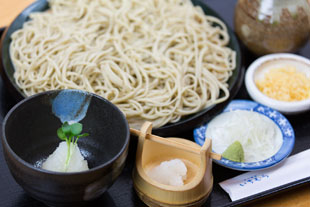Soba: (10, 1, 244, 111)
